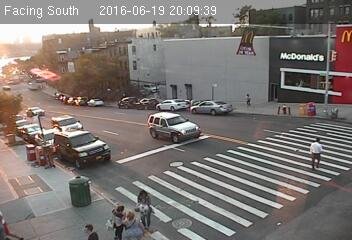neg: (263, 178, 287, 209), (242, 130, 265, 161), (9, 107, 31, 137), (54, 21, 75, 49), (107, 23, 126, 48), (97, 78, 116, 103), (135, 80, 152, 104), (163, 17, 180, 40), (59, 66, 76, 88), (199, 132, 215, 154), (212, 164, 228, 186), (321, 41, 337, 63), (287, 20, 303, 41), (188, 103, 204, 124), (253, 11, 269, 32), (114, 139, 129, 159), (6, 25, 21, 45), (158, 104, 173, 123), (18, 152, 32, 171), (79, 133, 93, 151), (167, 160, 181, 178), (221, 32, 234, 50), (178, 67, 189, 82), (194, 46, 204, 60), (271, 50, 281, 63), (145, 49, 155, 62)
pos: (303, 130, 331, 168), (131, 186, 159, 222), (120, 209, 139, 235), (243, 90, 254, 106)
